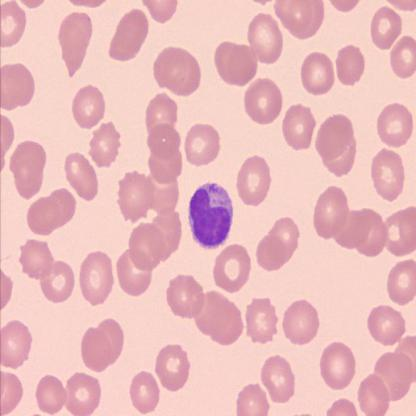Lymphocyte: (187, 181, 234, 249)
